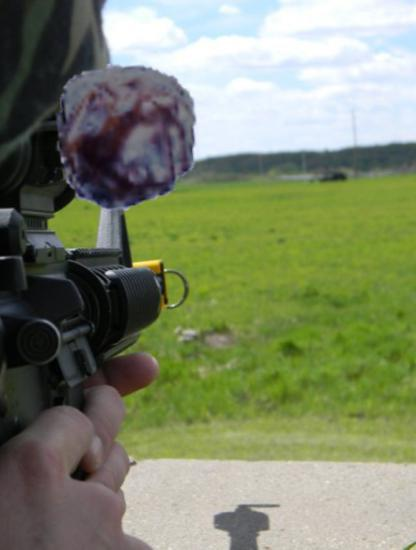Dates: (54, 62, 203, 211)
